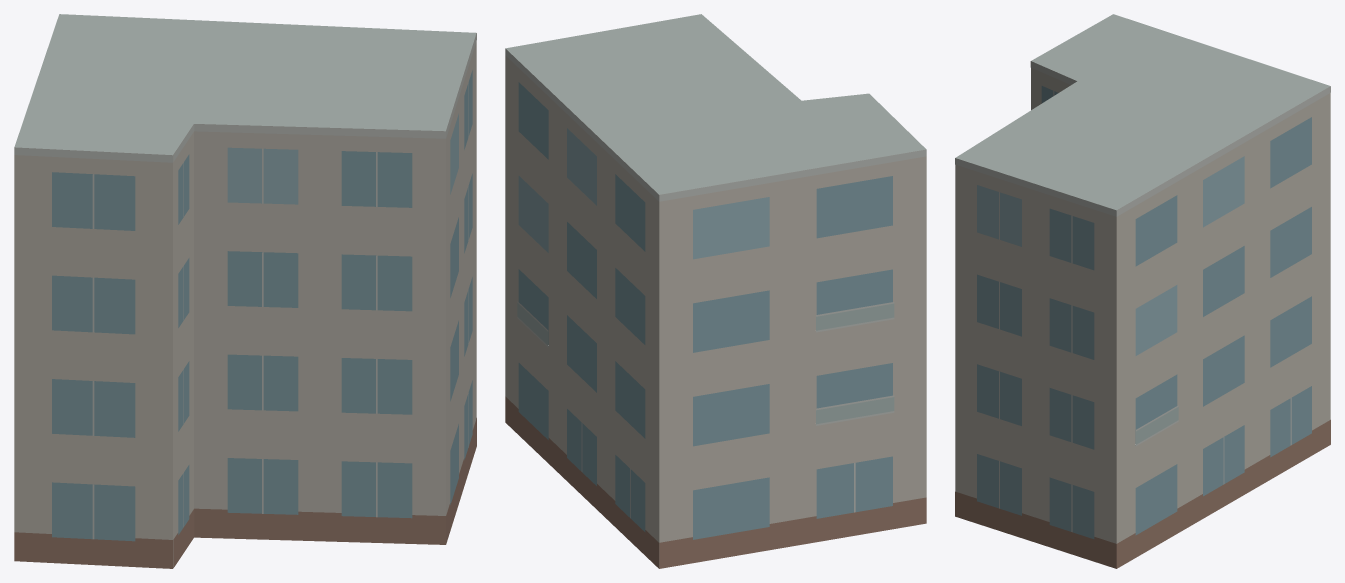
File: survey-upis-32952428.glb
3 views of the same model, side by side, from view 1: azimuth 30°, elevation 25°; view 2: azimuth 150°, elevation 25°; view 3: azimuth 270°, elevation 25° (orthographic). The views are drawn at different scales.
Parts seen in each view (by area): view 1: survey-upis-32952428.tmp; view 2: survey-upis-32952428.tmp; view 3: survey-upis-32952428.tmp.
Boxes of the visible parts, box(x1,y1,x2,y2) form: survey-upis-32952428.tmp: box(14, 14, 476, 568); survey-upis-32952428.tmp: box(505, 14, 926, 568); survey-upis-32952428.tmp: box(955, 14, 1330, 568).
Size of the model in its own units: 15.62 by 13.3 by 12.64.
